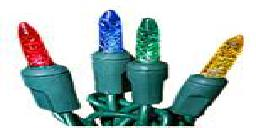LED: (201, 33, 246, 79), (15, 21, 53, 66), (96, 8, 126, 53), (134, 17, 161, 63)
